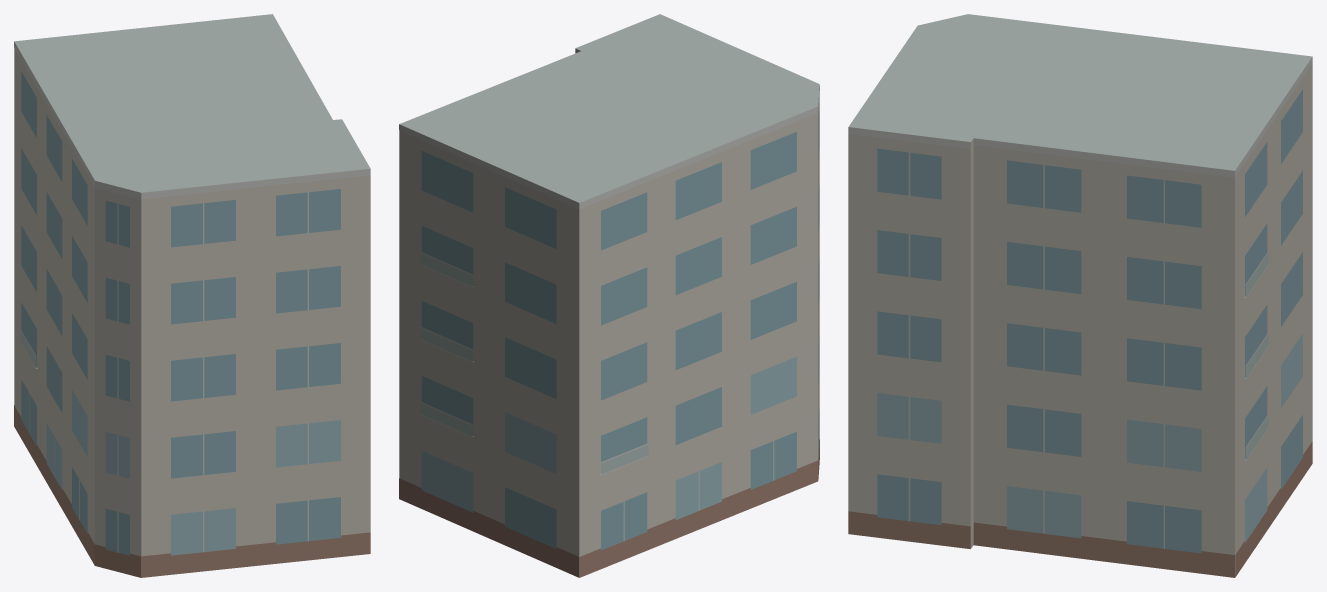
File: survey-upis-32880509.glb
3 renders of one model, left to right at view 1: azimuth 30°, elevation 25°; view 2: azimuth 150°, elevation 25°; view 3: azimuth 270°, elevation 25°, orthographic. The views are drawn at different scales.
Parts seen in each view (by area): view 1: survey-upis-32880509.tmp; view 2: survey-upis-32880509.tmp; view 3: survey-upis-32880509.tmp.
Boxes of the visible parts, bbox=[...] form: survey-upis-32880509.tmp: bbox=[14, 14, 370, 577]; survey-upis-32880509.tmp: bbox=[399, 14, 819, 577]; survey-upis-32880509.tmp: bbox=[848, 14, 1312, 577].
Size of the model in its own units: 11.99 by 14.5 by 15.
